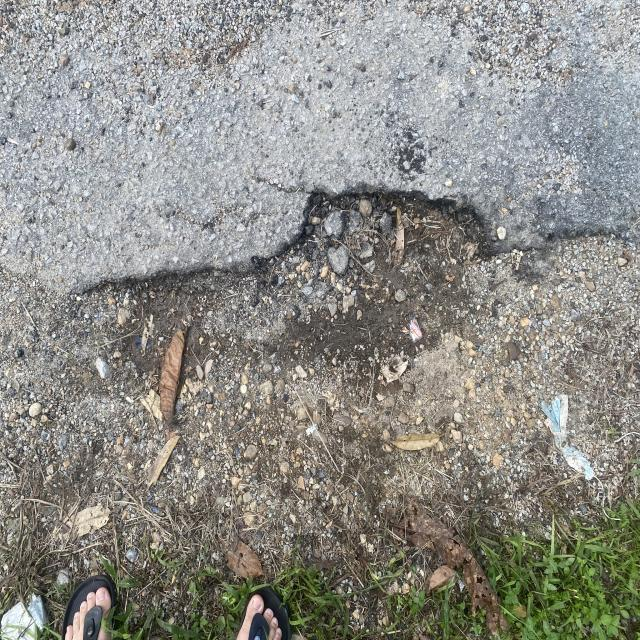Pothole: (63, 154, 586, 420)
